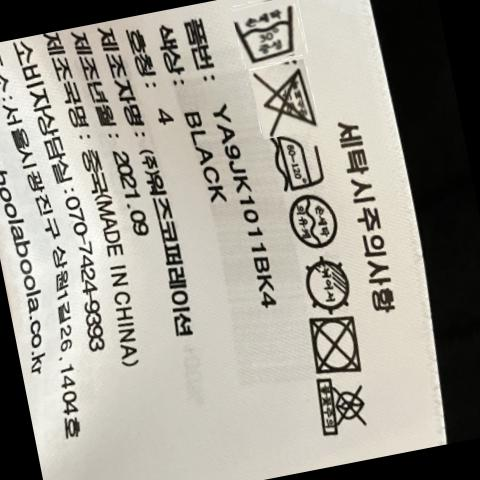DN_bleach: (254, 66, 318, 138)
DN_tumble_dry: (302, 314, 363, 377)
dry_clean_petrol_only: (286, 194, 342, 249)
dry_flat_in_shade: (304, 259, 353, 314)
hand_wash: (234, 2, 304, 63)
iron_low: (270, 134, 330, 195)
